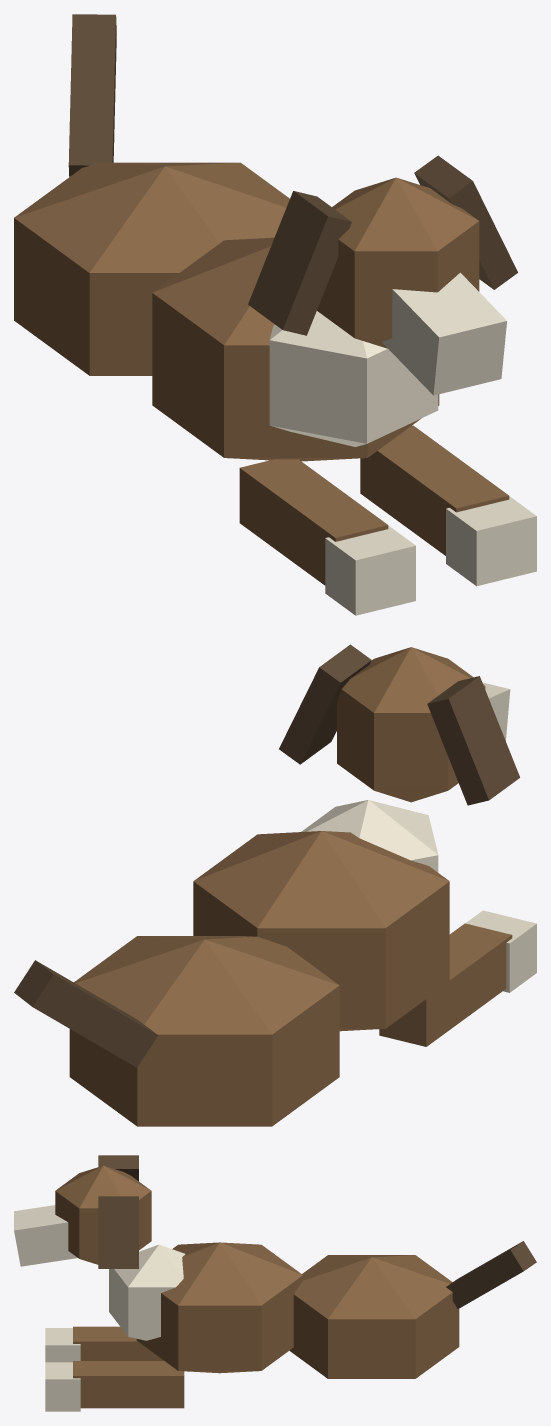
File: animal-dog.glb
3 renders of one model, top to bottom at view 1: azimuth 30°, elevation 25°; view 2: azimuth 150°, elevation 25°; view 3: azimuth 270°, elevation 25°, orthographic. The views are drawn at different scales.
Parts seen in each view (by area): view 1: Body, Head; view 2: Body, Head; view 3: Body, Head.
Part boxes in pixels (x1=…): Body: x1=14, y1=14, x2=536, y2=615; Head: x1=248, y1=155, x2=517, y2=395; Body: x1=14, y1=800, x2=536, y2=1126; Head: x1=279, y1=644, x2=519, y2=805; Body: x1=45, y1=1241, x2=536, y2=1411; Head: x1=14, y1=1155, x2=151, y2=1268.
Bounding box in the file's own units: 0.3118 × 0.48 × 1.03.
1 material, 1 textured.
